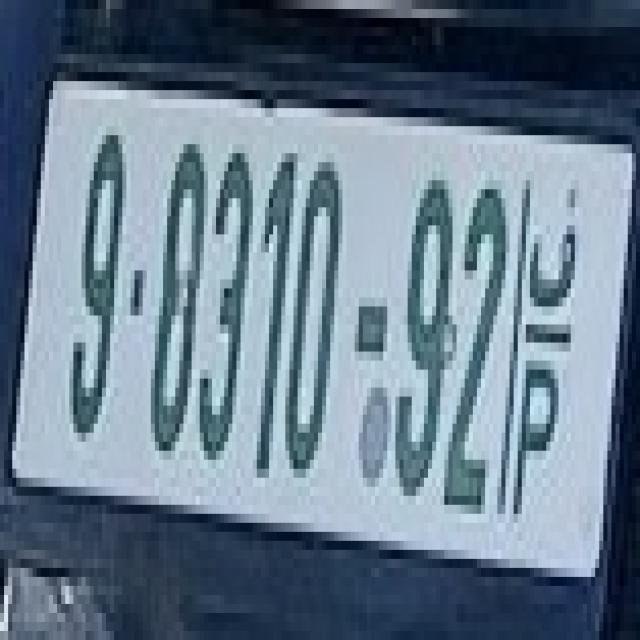0: (126, 108, 212, 451), (269, 126, 347, 478)
2: (432, 162, 522, 505)
3: (188, 126, 269, 469)
9: (380, 153, 464, 496), (48, 108, 130, 433)
P: (497, 306, 571, 514)
U: (501, 162, 583, 316)
